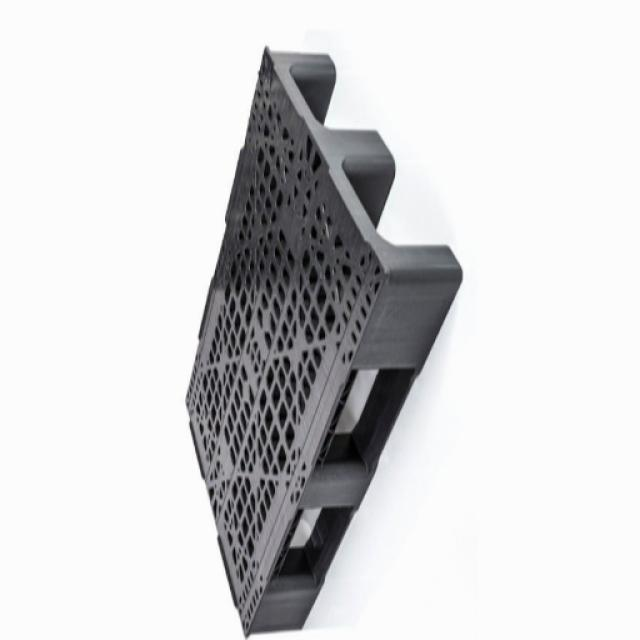non-igps: (167, 32, 467, 640)
